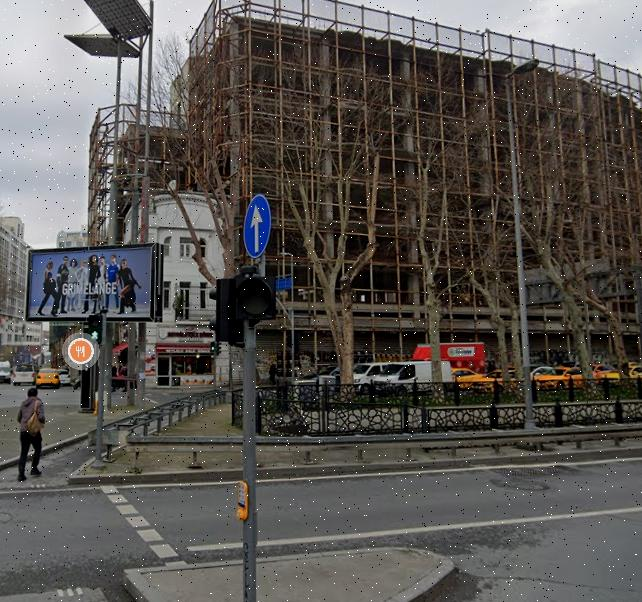forward: (244, 195, 272, 258)
